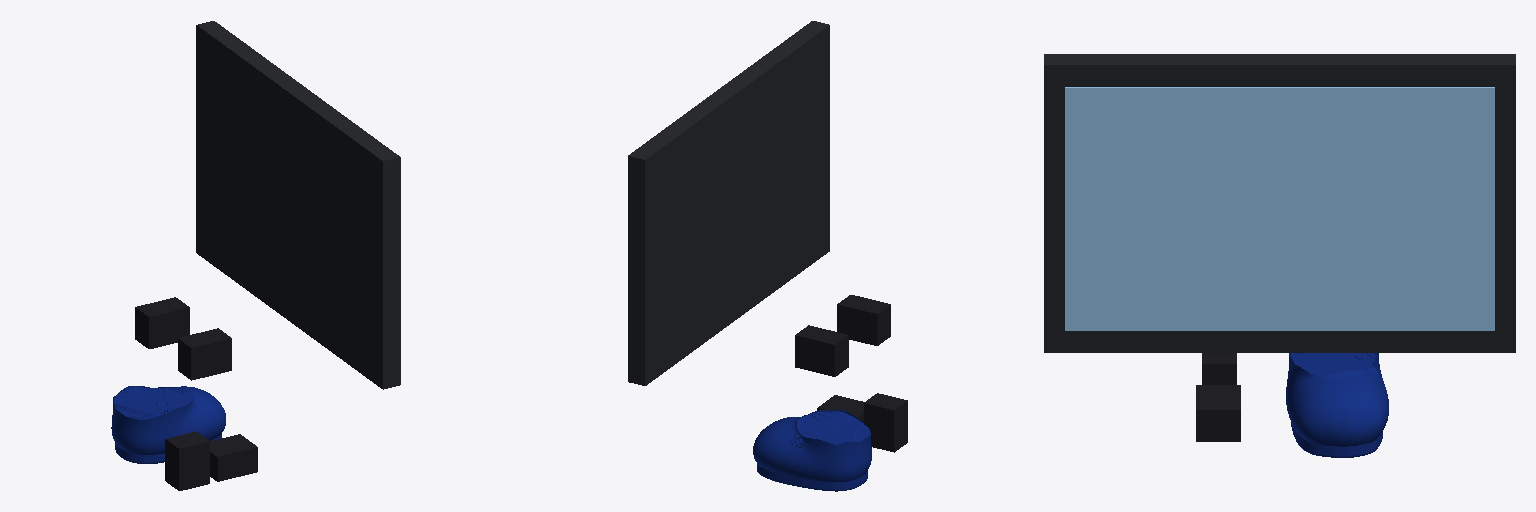
URDF robot description (haetburi):
<?xml version="1.0"?>
<!-- Haetburi biped (v16_xc330) - generated by tools/build_model.py, do not edit by hand -->
<robot name="haetburi">
  <mujoco>
    <compiler meshdir="." balanceinertia="true" discardvisual="false" strippath="false" fusestatic="false"/>
  </mujoco>
  <material name="display"><color rgba="0.18 0.19 0.21 1"/></material>
  <material name="screen"><color rgba="0.62 0.80 0.95 1"/></material>
  <material name="shell"><color rgba="0.106 0.216 0.541 1"/></material>
  <material name="motor"><color rgba="0.15 0.15 0.17 1"/></material>
  <material name="foot"><color rgba="0.25 0.25 0.28 1"/></material>
  <link name="world"/>
  <joint name="floating_base" type="floating">
    <parent link="world"/><child link="pelvis"/>
    <origin xyz="0 0 0" rpy="0 0 0"/>
  </joint>
  <link name="pelvis">
    <inertial>
      <origin xyz="-0.00958374 -9.53849e-05 0.0502902" rpy="0 0 0"/>
      <mass value="0.369732"/>
      <inertia ixx="0.000727635" ixy="3.77223e-07" ixz="0.000237629" iyy="0.000849584" iyz="-6.79749e-07" izz="0.000820798"/>
    </inertial>
    <visual><origin xyz="0 0 0" rpy="0 0 0"/><geometry><mesh filename="meshes/pelvis.stl"/></geometry><material name="shell"/></visual>
    <visual><origin xyz="0.00880329 0.0305891 0.033" rpy="0 0 0"/><geometry><box size="0.034 0.02 0.026"/></geometry><material name="motor"/></visual>
    <visual><origin xyz="0.00879671 -0.0309666 0.033" rpy="0 0 0"/><geometry><box size="0.034 0.02 0.026"/></geometry><material name="motor"/></visual>
    <collision><origin xyz="0.0093299 -0.000182784 0.032635" rpy="0 0 0"/><geometry><box size="0.111861 0.148545 0.06527"/></geometry></collision>
  </link>
  <link name="torso">
    <inertial>
      <origin xyz="0.0208113 0.000139946 0.17184" rpy="0 0 0"/>
      <mass value="3.88913"/>
      <inertia ixx="0.0994754" ixy="-0.000316424" ixz="0.0162025" iyy="0.0999648" iyz="-0.000296189" izz="0.054811"/>
    </inertial>
    <visual><origin xyz="0 0 0" rpy="0 0 0"/><geometry><mesh filename="meshes/torso.stl"/></geometry><material name="shell"/></visual>
    <visual><origin xyz="0.10497 0 0.0522021" rpy="0 0 0"/><geometry><box size="0.014766 0.270282 0.182713"/></geometry><material name="display"/></visual>
    <visual><origin xyz="0.112353 0 0.0522021" rpy="0 0 0"/><geometry><box size="0.0004 0.246528 0.15408"/></geometry><material name="screen"/></visual>
    <collision><origin xyz="-0.0487372 -2.2688e-06 0.0359563" rpy="0 0 0"/><geometry><box size="0.228767 0.15512 0.15276"/></geometry></collision>
    <collision><origin xyz="0.0595134 0.120154 0.0724547" rpy="0 0 0"/><geometry><sphere radius="0.0869147"/></geometry></collision>
    <collision><origin xyz="0.0599249 -0.120339 0.0724547" rpy="0 0 0"/><geometry><sphere radius="0.0868311"/></geometry></collision>
    <collision><origin xyz="-0.00746993 0.000382019 0.146682" rpy="0 0 0"/><geometry><sphere radius="0.149076"/></geometry></collision>
    <collision><origin xyz="-0.0130166 -0.000175633 0.215328" rpy="0 0 0"/><geometry><sphere radius="0.171989"/></geometry></collision>
    <collision><origin xyz="-0.0198206 -0.000289876 0.283986" rpy="0 0 0"/><geometry><sphere radius="0.169997"/></geometry></collision>
    <collision><origin xyz="-0.0155492 0.00122453 0.35264" rpy="0 0 0"/><geometry><sphere radius="0.147819"/></geometry></collision>
    <collision><origin xyz="-0.00920094 0.00969252 0.421336" rpy="0 0 0"/><geometry><sphere radius="0.105361"/></geometry></collision>
    <collision><origin xyz="-0.016862 -0.0032036 0.489972" rpy="0 0 0"/><geometry><sphere radius="0.061144"/></geometry></collision>
    <collision><origin xyz="0.10497 0 0.0522021" rpy="0 0 0"/><geometry><box size="0.014766 0.270282 0.182713"/></geometry></collision>
  </link>
  <link name="leg_l">
    <inertial>
      <origin xyz="-0.000828089 -0.000298673 -0.0229164" rpy="0 0 0"/>
      <mass value="0.033151"/>
      <inertia ixx="1.55945e-05" ixy="-1.54139e-08" ixz="3.22359e-07" iyy="1.45416e-05" iyz="1.53461e-07" izz="1.32832e-05"/>
    </inertial>
    <visual><origin xyz="0 0 0" rpy="0 0 0"/><geometry><mesh filename="meshes/leg_l.stl"/></geometry><material name="shell"/></visual>
    <collision><origin xyz="-7.07693e-07 -9.75618e-06 -0.00764038" rpy="0 0 0"/><geometry><box size="0.0583508 0.0534592 0.0152808"/></geometry></collision>
  </link>
  <link name="ankle_l">
    <inertial>
      <origin xyz="-0.0011452 0.00020639 -0.000918843" rpy="0 0 0"/>
      <mass value="0.0431049"/>
      <inertia ixx="4.2841e-06" ixy="1.01217e-07" ixz="-4.50617e-07" iyy="9.24159e-06" iyz="9.35153e-09" izz="1.05688e-05"/>
    </inertial>
    <visual><origin xyz="0.0088 0 0" rpy="0 0 0"/><geometry><box size="0.034 0.026 0.02"/></geometry><material name="motor"/></visual>
  </link>
  <link name="foot_l">
    <inertial>
      <origin xyz="0.0159373 -0.0012338 0.00347735" rpy="0 0 0"/>
      <mass value="0.118551"/>
      <inertia ixx="5.01801e-05" ixy="-1.42011e-06" ixz="-2.4604e-06" iyy="9.20609e-05" iyz="1.1791e-07" izz="0.0001011"/>
    </inertial>
    <visual><origin xyz="0 0 0" rpy="0 0 0"/><geometry><mesh filename="meshes/foot_l.stl"/></geometry><material name="shell"/></visual>
    <visual><origin xyz="0 0 0.0088" rpy="0 0 0"/><geometry><box size="0.026 0.02 0.034"/></geometry><material name="motor"/></visual>
    <collision><origin xyz="0 0 0" rpy="0 0 0"/><geometry><mesh filename="meshes/foot_l.stl"/></geometry></collision>
  </link>
  <link name="leg_r">
    <inertial>
      <origin xyz="-0.00061737 0.000343064 -0.0227709" rpy="0 0 0"/>
      <mass value="0.0333674"/>
      <inertia ixx="1.57902e-05" ixy="-8.03556e-08" ixz="2.54759e-07" iyy="1.45436e-05" iyz="-1.76671e-07" izz="1.34431e-05"/>
    </inertial>
    <visual><origin xyz="0 0 0" rpy="0 0 0"/><geometry><mesh filename="meshes/leg_r.stl"/></geometry><material name="shell"/></visual>
    <collision><origin xyz="1.69005e-06 1.54666e-05 -0.00754241" rpy="0 0 0"/><geometry><box size="0.0583036 0.053562 0.0150848"/></geometry></collision>
  </link>
  <link name="ankle_r">
    <inertial>
      <origin xyz="-0.0011452 0.00020639 -0.000918843" rpy="0 0 0"/>
      <mass value="0.0431049"/>
      <inertia ixx="4.2841e-06" ixy="1.01217e-07" ixz="-4.50617e-07" iyy="9.24159e-06" iyz="9.35153e-09" izz="1.05688e-05"/>
    </inertial>
    <visual><origin xyz="0.0088 0 0" rpy="0 0 0"/><geometry><box size="0.034 0.026 0.02"/></geometry><material name="motor"/></visual>
  </link>
  <link name="foot_r">
    <inertial>
      <origin xyz="0.0157318 0.000863772 0.00341731" rpy="0 0 0"/>
      <mass value="0.11823"/>
      <inertia ixx="4.98047e-05" ixy="1.90775e-06" ixz="-2.25885e-06" iyy="9.1358e-05" iyz="-4.82126e-08" izz="0.000100391"/>
    </inertial>
    <visual><origin xyz="0 0 0" rpy="0 0 0"/><geometry><mesh filename="meshes/foot_r.stl"/></geometry><material name="shell"/></visual>
    <visual><origin xyz="0 0 0.0088" rpy="0 0 0"/><geometry><box size="0.026 0.02 0.034"/></geometry><material name="motor"/></visual>
    <collision><origin xyz="0 0 0" rpy="0 0 0"/><geometry><mesh filename="meshes/foot_r.stl"/></geometry></collision>
  </link>
  <joint name="waist_fixed" type="fixed">
    <parent link="pelvis"/><child link="torso"/>
    <origin xyz="0 0 0.06527" rpy="0 0 0"/>
  </joint>
  <joint name="hip_yaw_l" type="revolute">
    <parent link="pelvis"/><child link="leg_l"/>
    <origin xyz="3.29473e-06 0.0305891 0" rpy="0 0 0"/>
    <axis xyz="0 0 1"/>
    <limit lower="-0.523599" upper="0.523599" effort="1.0" velocity="7.43"/>
    <dynamics damping="0.07142857142857144" friction="0.028571428571428574"/>
  </joint>
  <joint name="hip_yaw_r" type="revolute">
    <parent link="pelvis"/><child link="leg_r"/>
    <origin xyz="-3.29473e-06 -0.0309666 0" rpy="0 0 0"/>
    <axis xyz="0 0 1"/>
    <limit lower="-0.523599" upper="0.523599" effort="1.0" velocity="7.43"/>
    <dynamics damping="0.07142857142857144" friction="0.028571428571428574"/>
  </joint>
  <joint name="ankle_pitch_l" type="revolute">
    <parent link="leg_l"/><child link="ankle_l"/>
    <origin xyz="0.0173928 0.00322027 -0.052165" rpy="0 0 0"/>
    <axis xyz="0 1 0"/>
    <limit lower="-0.261799" upper="0.261799" effort="1.0" velocity="7.43"/>
    <dynamics damping="0.07142857142857144" friction="0.028571428571428574"/>
  </joint>
  <joint name="ankle_pitch_r" type="revolute">
    <parent link="leg_r"/><child link="ankle_r"/>
    <origin xyz="0.0175425 -0.00447767 -0.052165" rpy="0 0 0"/>
    <axis xyz="0 1 0"/>
    <limit lower="-0.261799" upper="0.261799" effort="1.0" velocity="7.43"/>
    <dynamics damping="0.07142857142857144" friction="0.028571428571428574"/>
  </joint>
  <joint name="ankle_roll_l" type="revolute">
    <parent link="ankle_l"/><child link="foot_l"/>
    <origin xyz="-0.025045 0.000885 -0.00394" rpy="0 0 0"/>
    <axis xyz="1 0 0"/>
    <limit lower="-0.20944" upper="0.20944" effort="1.0" velocity="7.43"/>
    <dynamics damping="0.07142857142857144" friction="0.028571428571428574"/>
  </joint>
  <joint name="ankle_roll_r" type="revolute">
    <parent link="ankle_r"/><child link="foot_r"/>
    <origin xyz="-0.025045 0.000885 -0.00394" rpy="0 0 0"/>
    <axis xyz="1 0 0"/>
    <limit lower="-0.20944" upper="0.20944" effort="1.0" velocity="7.43"/>
    <dynamics damping="0.07142857142857144" friction="0.028571428571428574"/>
  </joint>
</robot>

--- What the picture shows (computed from the rendered views, not written in the file) ---
The picture shows the robot from 3 angles, left to right: view 1: azimuth 30°, elevation 25°; view 2: azimuth 150°, elevation 25°; view 3: azimuth 270°, elevation 25°; orthographic projection.
Model haetburi with 9 links and 8 joints (6 revolute, 1 fixed, 1 floating), rooted at world, posed every joint at zero.
Visible links, largest first — view 1: torso, foot_l, pelvis, foot_r, ankle_r; view 2: torso, foot_l, pelvis, foot_r, ankle_r; view 3: torso, foot_l, ankle_r, foot_r.
Link boxes in pixels (box(x1,y1,x2,y2)): torso: box(196, 21, 400, 389); foot_l: box(111, 386, 225, 463); pelvis: box(135, 297, 231, 380); foot_r: box(165, 431, 209, 490); ankle_r: box(210, 434, 257, 481); torso: box(628, 21, 829, 385); foot_l: box(753, 410, 871, 491); pelvis: box(795, 295, 890, 376); foot_r: box(864, 393, 907, 452); ankle_r: box(817, 395, 863, 421); torso: box(1044, 54, 1515, 352); foot_l: box(1286, 353, 1388, 457); ankle_r: box(1196, 385, 1240, 441); foot_r: box(1202, 353, 1236, 384).
Bounding box of the posed robot: 0.1415 × 0.2703 × 0.2757 m (x, y, z).
Meshes: 6 distinct files referenced, 1 mesh visuals loaded (1 binary STL); not drawn: 5 (reference not matched to a file when rendering).
